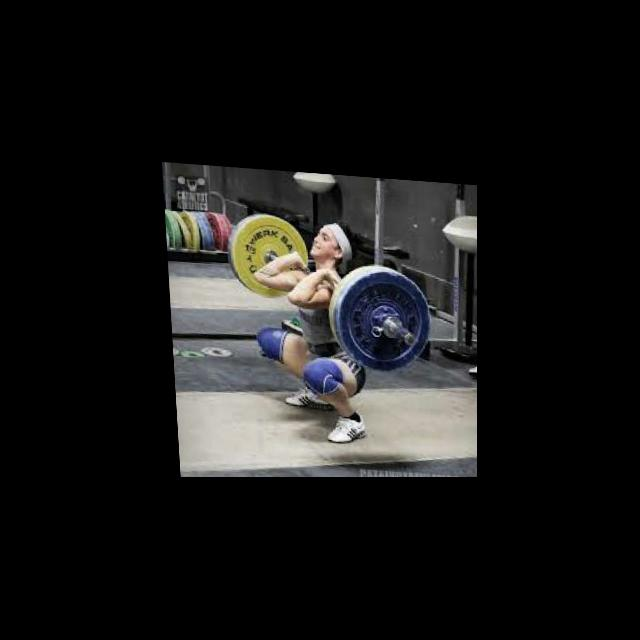barbell: (331, 263, 433, 374)
